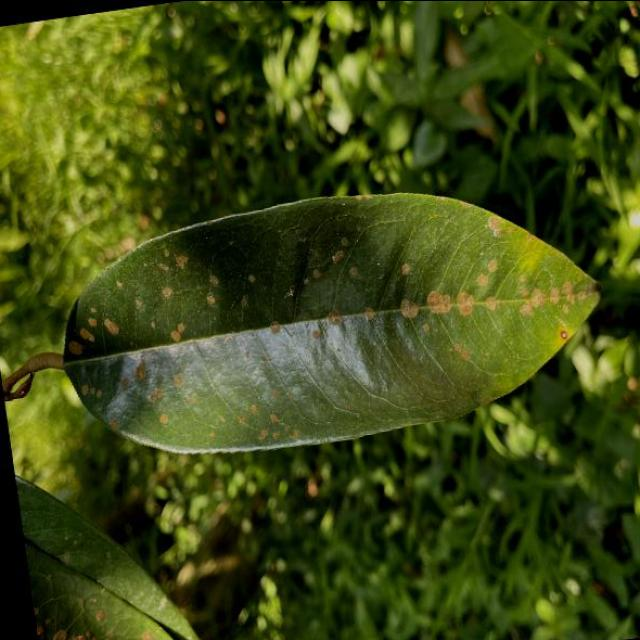Algal Leaf Spot: (34, 150, 624, 487)
